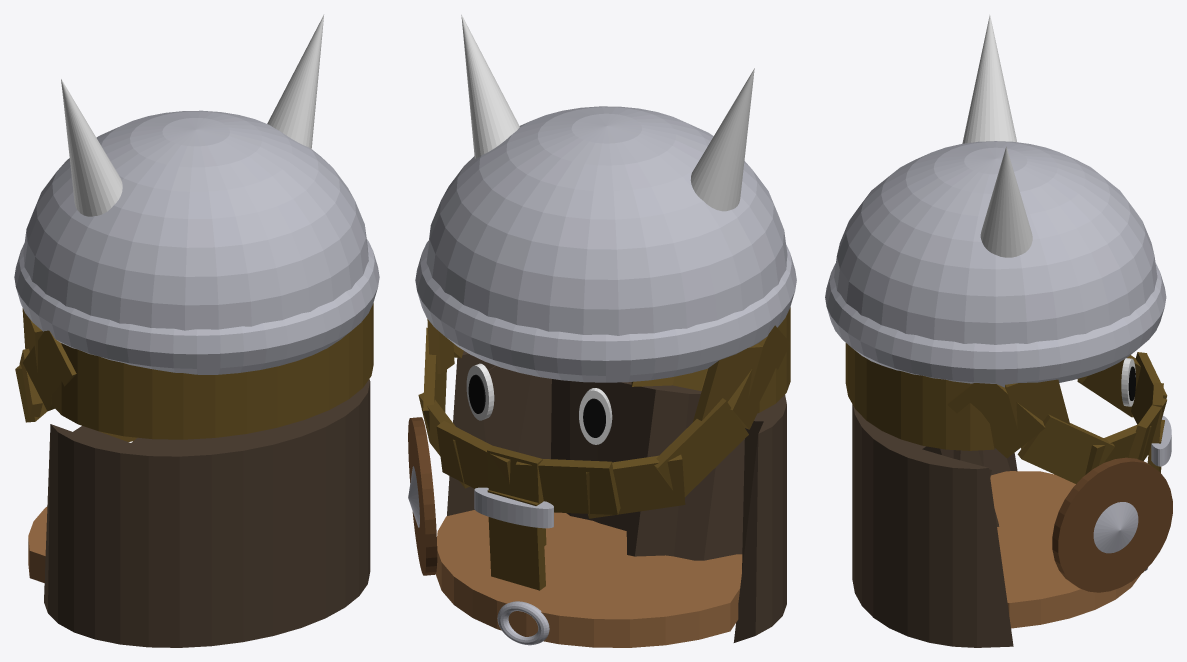
The model's file is early_dwarf.glb.
3 renders of one model, left to right at view 1: azimuth 30°, elevation 25°; view 2: azimuth 150°, elevation 25°; view 3: azimuth 270°, elevation 25°, orthographic. The views are drawn at different scales.
Parts seen in each view (by area): view 1: Cylinder.002, Sphere, Cylinder.001, Torus, Cone.003, Cone.002, Cube.010, Cylinder.003, Cube.009, Cube.008; view 2: Sphere, Cylinder.002, Cylinder.003, Torus, Cone.003, Cube.006, Cube.009, Cone.002, Cube.005, Cube.007, Cylinder.004, Cube.004 (+12 smaller); view 3: Sphere, Cylinder.002, Torus, Cylinder.003, Cylinder.004, Cylinder.001, Cone.003, Cube.001, Cone.002, Cube, Cube.002, Cone.001 (+6 smaller).
Boxes of the visible parts, box(x1,y1,x2,y2) form: Cylinder.002: box(44, 379, 370, 647); Sphere: box(23, 110, 368, 330); Cylinder.001: box(51, 303, 373, 439); Torus: box(14, 239, 379, 374); Cone.003: box(61, 79, 122, 216); Cone.002: box(267, 14, 324, 149); Cube.010: box(22, 330, 76, 411); Cylinder.003: box(28, 506, 47, 583); Cube.009: box(19, 348, 42, 417); Cube.008: box(22, 308, 43, 371); Sphere: box(426, 106, 787, 335); Cylinder.002: box(447, 351, 786, 642); Cylinder.003: box(436, 510, 742, 647); Torus: box(415, 241, 796, 382); Cone.003: box(690, 68, 754, 211); Cube.006: box(515, 459, 620, 514); Cube.009: box(654, 398, 748, 496); Cone.002: box(461, 14, 519, 158); Cube.005: box(487, 490, 545, 590); Cube.007: box(586, 454, 685, 518); Cylinder.004: box(408, 417, 437, 575); Cube.004: box(436, 421, 510, 488); Sphere: box(834, 141, 1157, 344); Cylinder.002: box(852, 404, 1017, 647); Torus: box(825, 263, 1166, 387); Cylinder.003: box(990, 471, 1140, 628); Cylinder.004: box(1052, 457, 1172, 592); Cylinder.001: box(845, 343, 994, 450); Cone.003: box(962, 15, 1016, 143); Cube.001: box(1017, 414, 1114, 483); Cone.002: box(980, 146, 1032, 257); Cube: box(947, 383, 1045, 458); Cube.002: box(1005, 379, 1070, 448); Cone.001: box(1093, 502, 1138, 553).
Size of the model in its own units: 2.74 by 4.45 by 2.79.
